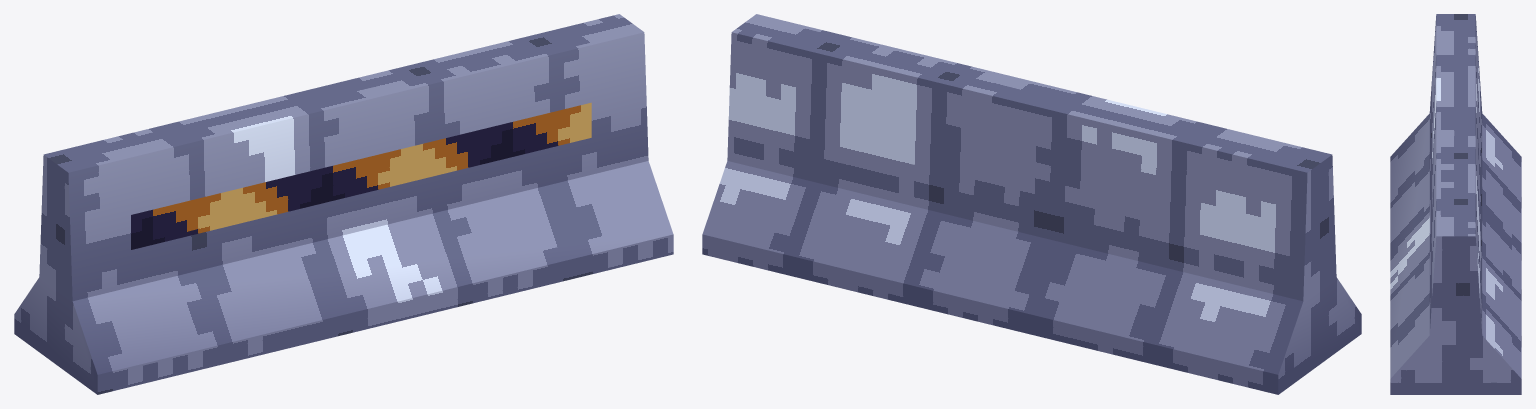
Rendered from cytech.barrier.glb.
3 views of the same model, side by side, from view 1: azimuth 30°, elevation 25°; view 2: azimuth 150°, elevation 25°; view 3: azimuth 270°, elevation 25° (orthographic). The views are drawn at different scales.
Parts seen in each view (by area): view 1: kit_barrier, kit_card_bands; view 2: kit_barrier; view 3: kit_barrier.
Part boxes in pixels (bbox=[...]): kit_barrier: bbox=[14, 14, 673, 394]; kit_card_bands: bbox=[131, 102, 591, 249]; kit_barrier: bbox=[702, 14, 1361, 394]; kit_barrier: bbox=[1390, 14, 1521, 394].
Bounding box in the file's own units: 2.4 × 0.8 × 0.6.
Materials: 2 (2 with a texture image).
